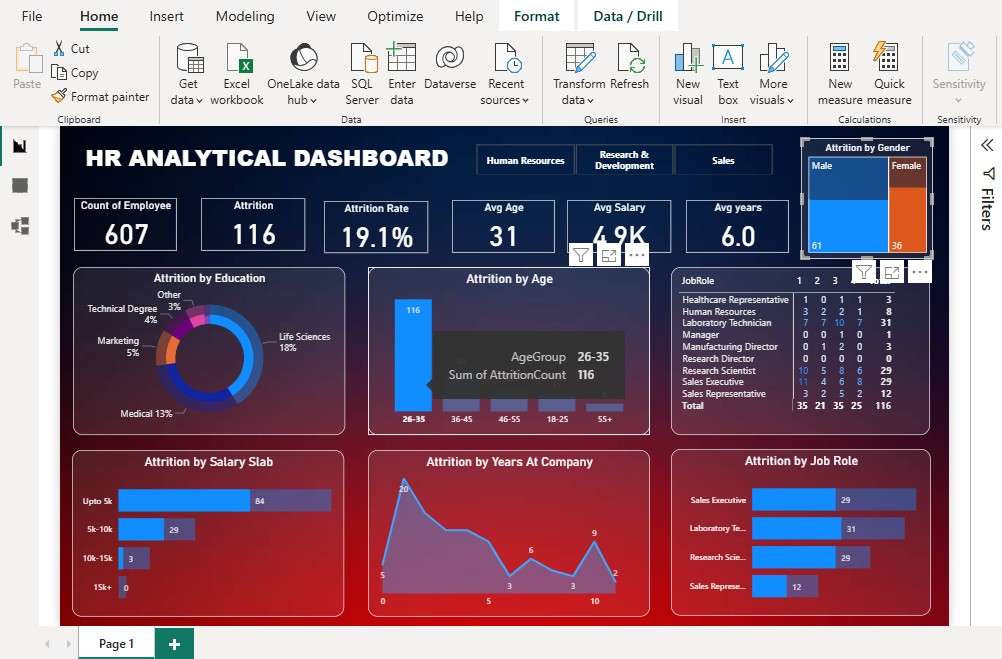

The dashboard page shown, as its layout file describes it:
{"tool":"powerbi","page":{"name":"Page 1","canvas":[1280,720],"ordinal":0},"visuals":[{"type":"card","title":"Count of Employee","fields":{"Values":["CountNonNull(HR_Analytics (1).EmpID)"]},"box":[19.5,104,150,75],"z":0},{"type":"card","title":"Attrition","fields":{"Values":["Sum(HR_Analytics (1).AttritionCount)"]},"box":[203,103.7,149.8,76.3],"z":1000},{"type":"card","title":"Attrition Rate","fields":{"Values":["HR_Analytics (1).AttritionRate"]},"box":[380.2,108,149.8,74.9],"z":2000},{"type":"card","title":"Avg Age","fields":{"Values":["Avg(HR_Analytics (1).Age)"]},"box":[564.5,106.6,148.3,76.3],"z":3000},{"type":"card","title":"Avg Salary","fields":{"Values":["Avg(HR_Analytics (1).MonthlyIncome)"]},"box":[730.1,106.6,149.8,76.3],"z":4000},{"type":"card","title":"Avg years","fields":{"Values":["Avg(HR_Analytics (1).YearsAtCompany)"]},"box":[901.4,106.6,148.3,76.3],"z":5000},{"type":"donutChart","title":"Attrition by Education","fields":{"Y":["CountNonNull(HR_Analytics (1).Attrition)"],"Category":["HR_Analytics (1).EducationField"]},"box":[18.7,203,391.7,241.9],"z":6000},{"type":"columnChart","title":"Attrition by Age","fields":{"Category":["HR_Analytics (1).AgeGroup"],"Y":["Sum(HR_Analytics (1).AttritionCount)"]},"box":[443.5,203,406.1,241.9],"z":7000},{"type":"pivotTable","fields":{"Rows":["HR_Analytics (1).JobRole"],"Columns":["HR_Analytics (1).JobSatisfaction"],"Values":["Sum(HR_Analytics (1).AttritionCount)"]},"box":[879.8,203,373,241.9],"z":8000},{"type":"barChart","title":"Attrition by Salary Slab","fields":{"Category":["HR_Analytics (1).SalarySlab"],"Y":["Sum(HR_Analytics (1).AttritionCount)"]},"box":[17.3,466.6,391.7,240.5],"z":9000},{"type":"barChart","title":"Attrition by Job Role","fields":{"Y":["Sum(HR_Analytics (1).AttritionCount)"],"Category":["HR_Analytics (1).JobRole"]},"box":[879.8,465.1,374.4,240.5],"z":10000},{"type":"areaChart","title":"Attrition by Years At Company","fields":{"Category":["HR_Analytics (1).YearsAtCompany"],"Y":["Sum(HR_Analytics (1).AttritionCount)"]},"box":[443.5,466.6,406.1,240.5],"z":11000},{"type":"treemap","title":"Attrition by Gender","fields":{"Group":["HR_Analytics (1).Gender"],"Values":["Sum(HR_Analytics (1).AttritionCount)"]},"box":[1067,17.3,190.1,174.2],"z":12000},{"type":"textbox","box":[20.2,17.3,555.8,72],"z":13000},{"type":"slicer","fields":{"Values":["HR_Analytics (1).Department"]},"box":[576,21.6,473.8,47.5],"z":14000}]}

Visuals, with their boxes on the page's 1280x720 design canvas (x1, y1, x2, y2). These are canvas units, not pixel positions in the 1002x659 screenshot, which may show the page scaled, cropped or inside an application window:
"Count of Employee" card: [20, 104, 170, 179]
"Attrition" card: [203, 104, 353, 180]
"Attrition Rate" card: [380, 108, 530, 183]
"Avg Age" card: [564, 107, 713, 183]
"Avg Salary" card: [730, 107, 880, 183]
"Avg years" card: [901, 107, 1050, 183]
"Attrition by Education" donutChart: [19, 203, 410, 445]
"Attrition by Age" columnChart: [444, 203, 850, 445]
pivotTable - HR_Analytics (1).JobRole x HR_Analytics (1).JobSatisfaction: [880, 203, 1253, 445]
"Attrition by Salary Slab" barChart: [17, 467, 409, 707]
"Attrition by Job Role" barChart: [880, 465, 1254, 706]
"Attrition by Years At Company" areaChart: [444, 467, 850, 707]
"Attrition by Gender" treemap: [1067, 17, 1257, 192]
textbox: [20, 17, 576, 89]
slicer - HR_Analytics (1).Department: [576, 22, 1050, 69]
